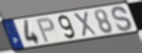4: (23, 18, 41, 46)
8: (94, 8, 114, 35)
9: (57, 14, 76, 39)
P: (35, 16, 56, 44)
S: (110, 5, 134, 33)
X: (72, 11, 98, 38)
